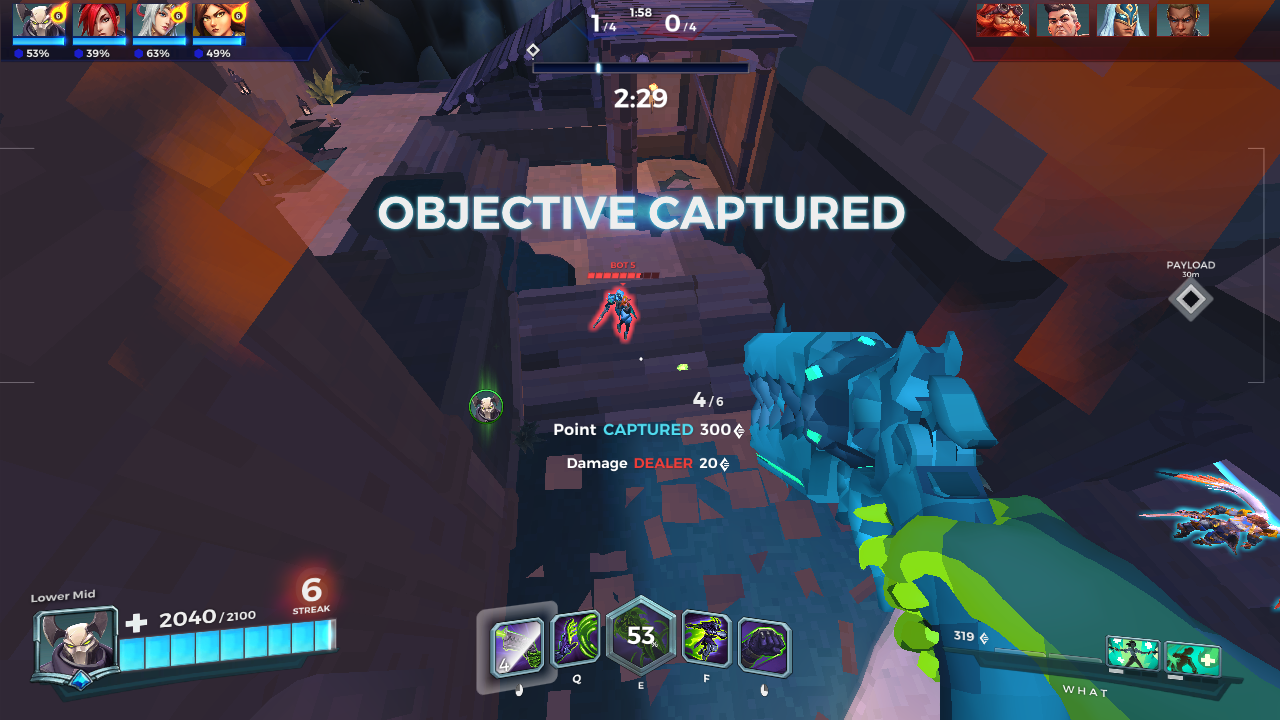model: (603, 287, 642, 345)
